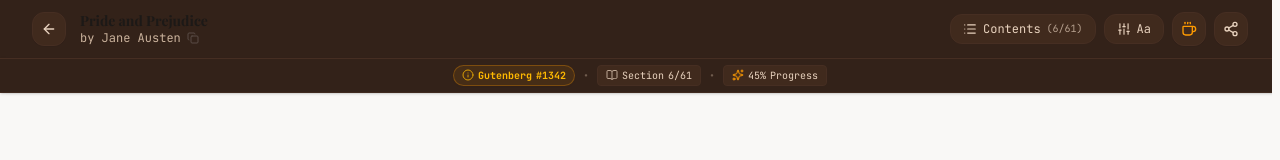
Scenario: ReaderHeader › handles link copying when share button is clicked
Click the button with test id "reader-share-button".
click(1231, 29)  # box [1214,12,1248,46]
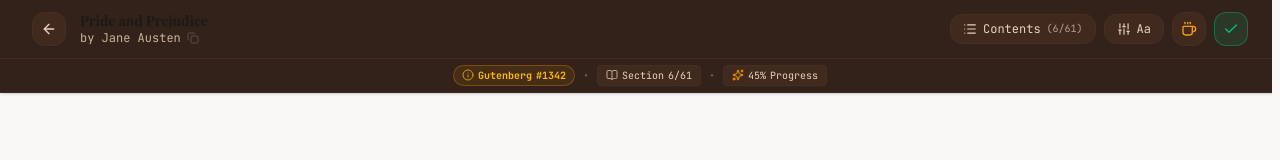
Result: the button named "Link Copied to Clipboard" is shown at [1214,12,1248,46]
